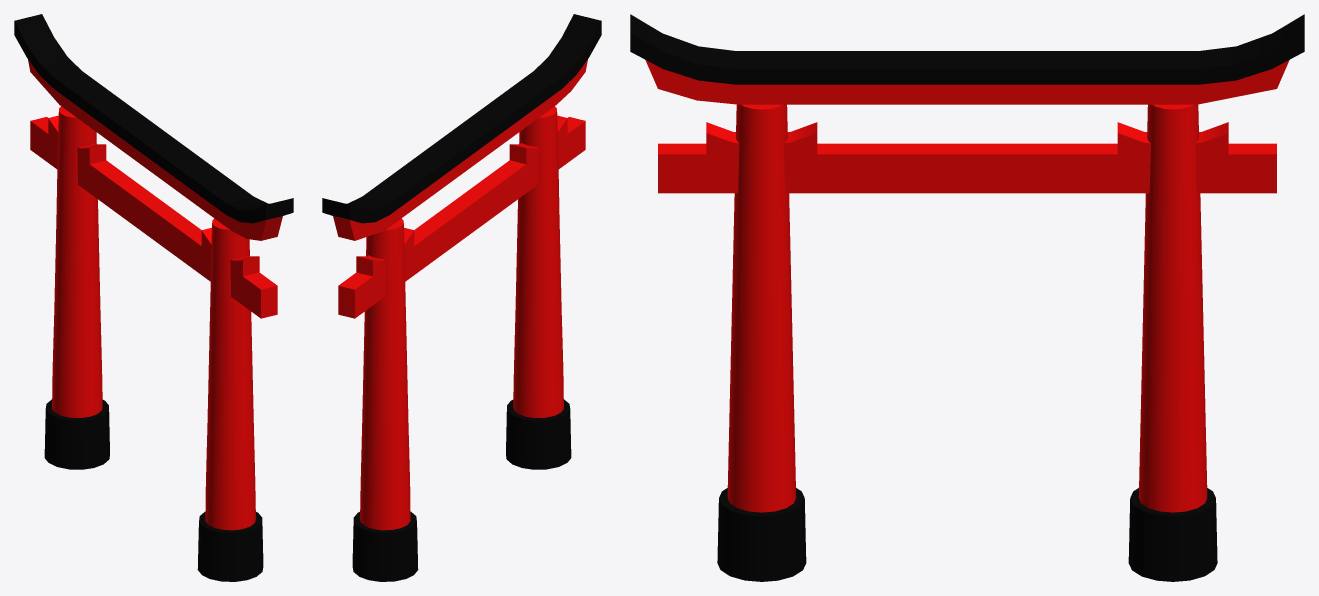
The model's file is Portão Japones.obj.
3 renders of one model, left to right at view 1: azimuth 30°, elevation 25°; view 2: azimuth 150°, elevation 25°; view 3: azimuth 270°, elevation 25°, orthographic. The views are drawn at different scales.
Visible parts, largest first — view 1: Group01 Group02, Group02; view 2: Group01 Group02, Group02; view 3: Group01 Group02, Group02.
Part boxes in pixels (x1,y1,x2,y2): Group01 Group02: [28, 59, 282, 530]; Group02: [14, 14, 293, 581]; Group01 Group02: [333, 59, 587, 530]; Group02: [322, 14, 601, 581]; Group01 Group02: [645, 60, 1289, 512]; Group02: [630, 14, 1304, 581].
Bounding box in the file's own units: 10.36 × 69.48 × 78.65.
